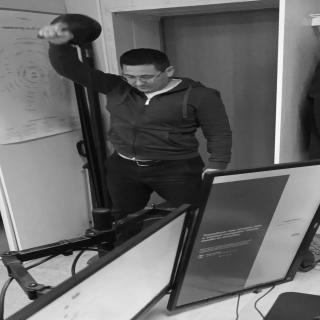kettlebell: (39, 13, 104, 47)
